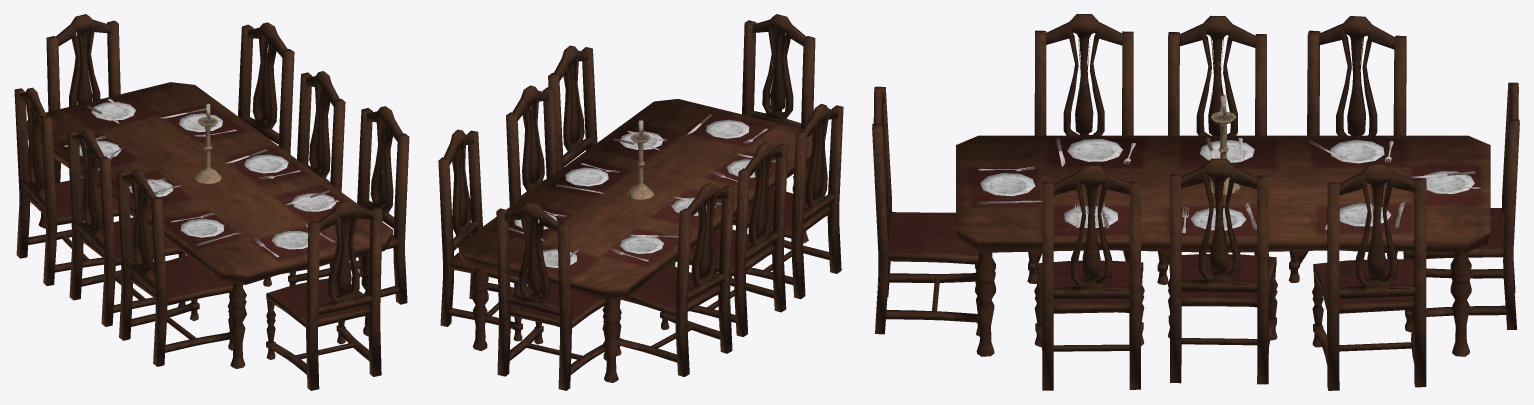
Rendered from dining-scene-30b9b1.glb.
The picture shows the model from 3 angles, left to right: view 1: azimuth 30°, elevation 25°; view 2: azimuth 150°, elevation 25°; view 3: azimuth 270°, elevation 25°; orthographic projection. The views are drawn at different scales.
Parts seen in each view (by area): view 1: PropMesh; view 2: PropMesh; view 3: PropMesh.
Boxes of the visible parts, <box> form: PropMesh: <box>14,14,409,390</box>; PropMesh: <box>438,14,843,390</box>; PropMesh: <box>872,14,1519,390</box>.
Size of the model in its own units: 1.48 by 0.9888 by 2.6.
Materials: 4 (4 with a texture image).
